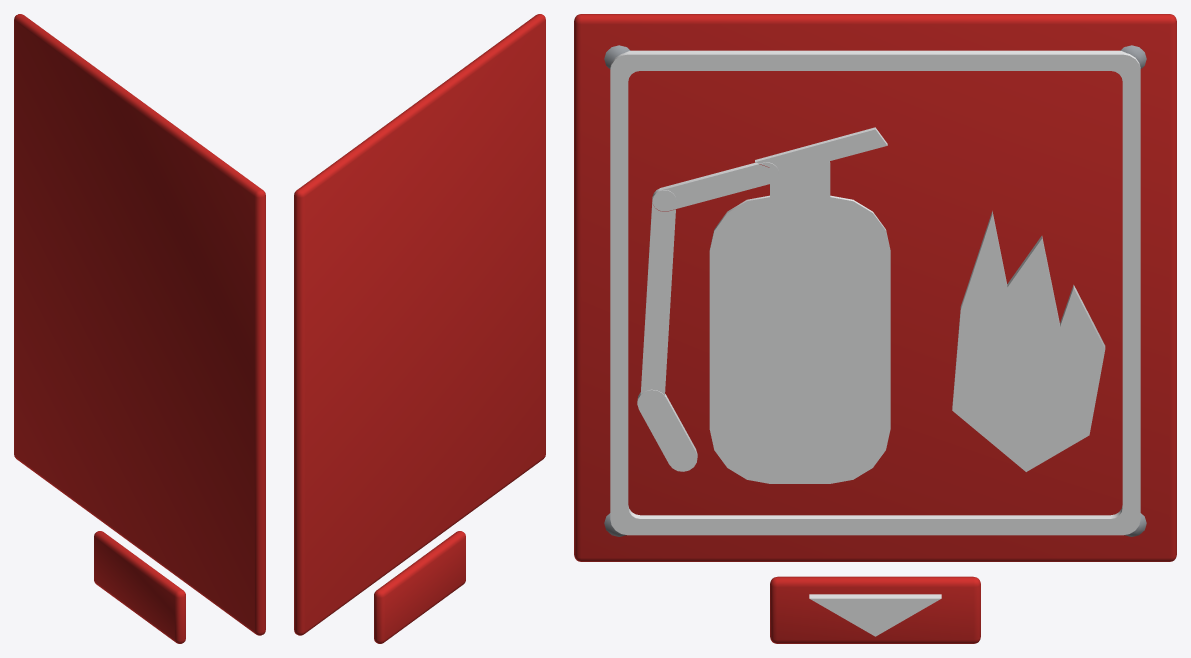
File: fire-extinguisher-sign.glb
The picture shows the model from 3 angles, left to right: view 1: azimuth 30°, elevation 25°; view 2: azimuth 150°, elevation 25°; view 3: azimuth 270°, elevation 25°; orthographic projection. The views are drawn at different scales.
Visible parts, largest first — view 1: Fire_Extinguisher_Sign; view 2: Fire_Extinguisher_Sign; view 3: Fire_Extinguisher_Sign.
Part boxes in pixels (<box>): Fire_Extinguisher_Sign: <box>14,14,265,643</box>; Fire_Extinguisher_Sign: <box>294,14,545,643</box>; Fire_Extinguisher_Sign: <box>574,14,1176,643</box>.
Bounding box in the file's own units: 0.0082 × 0.23 × 0.2.
